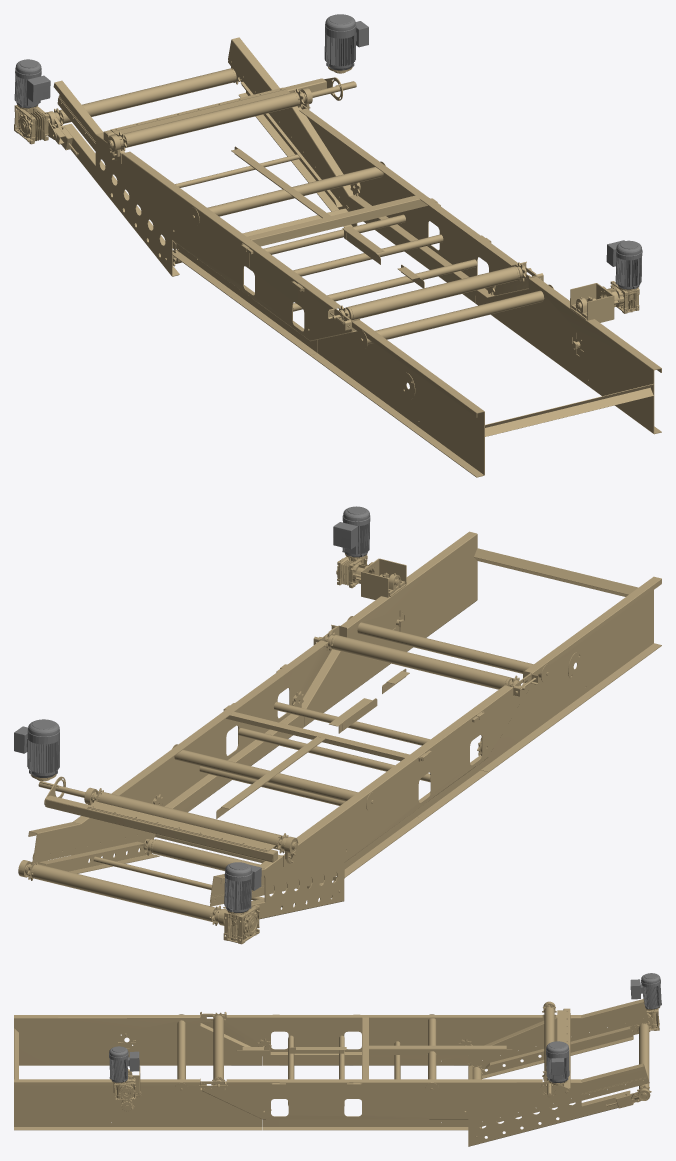
File: opt1.FBX
3 views of the same model, one above another, from view 1: azimuth 30°, elevation 25°; view 2: azimuth 150°, elevation 25°; view 3: azimuth 270°, elevation 25° (orthographic). The views are drawn at different scales.
Visible parts, largest first — view 1: 實體1; view 2: 實體1; view 3: 實體1.
Part boxes in pixels (left/top/right/bottom): 實體1: left=14, top=14, right=661, bottom=477; 實體1: left=14, top=506, right=661, bottom=944; 實體1: left=14, top=973, right=661, bottom=1146.
Size of the model in its own units: 139 by 73.5 by 366.
